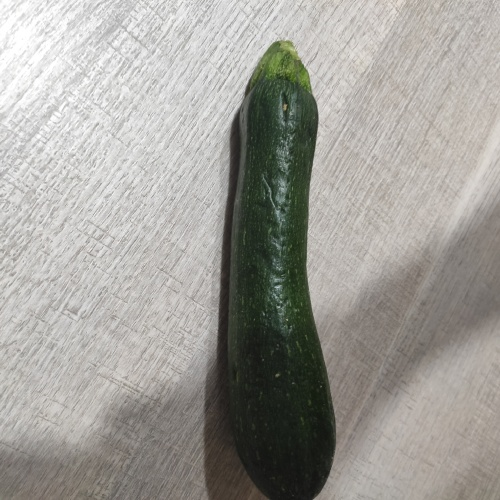zucchine: (229, 39, 337, 496)
